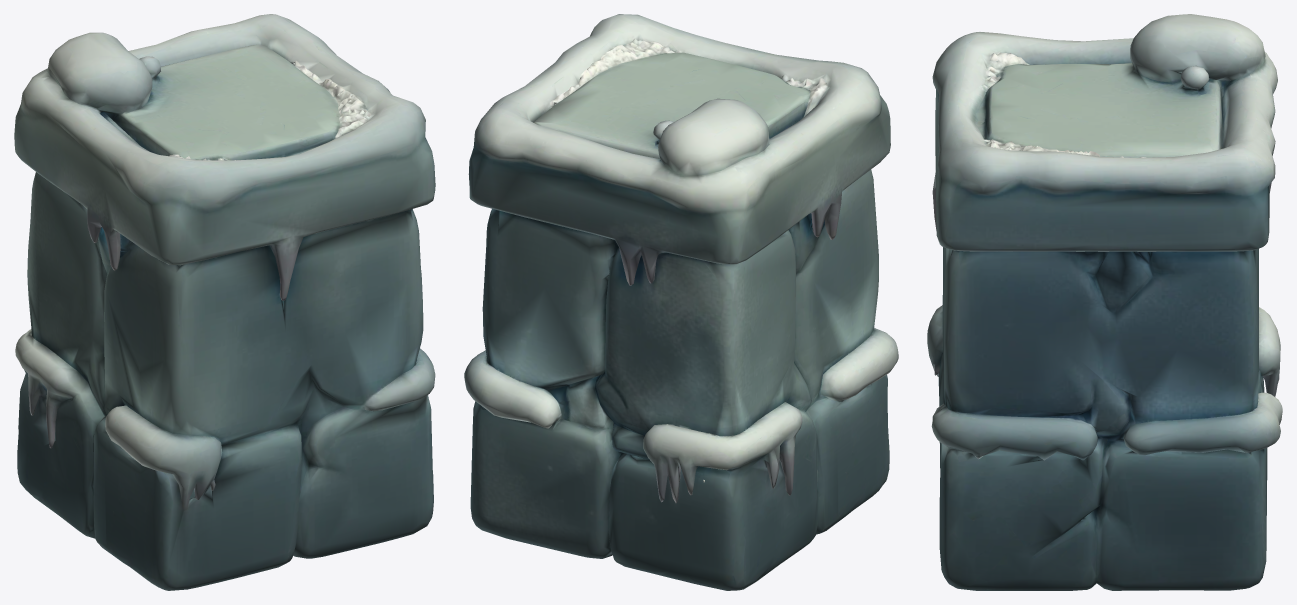
3 views of the same model, side by side, from view 1: azimuth 30°, elevation 25°; view 2: azimuth 150°, elevation 25°; view 3: azimuth 270°, elevation 25° (orthographic). The views are drawn at different scales.
Visible parts, largest first — view 1: world; view 2: world; view 3: world.
Part boxes in pixels (x1=…): world: x1=14, y1=14, x2=435, y2=590; world: x1=464, y1=14, x2=898, y2=590; world: x1=927, y1=14, x2=1282, y2=590.
Size of the model in its own units: 0.6854 by 1 by 0.6876.
1 material, 1 textured.
